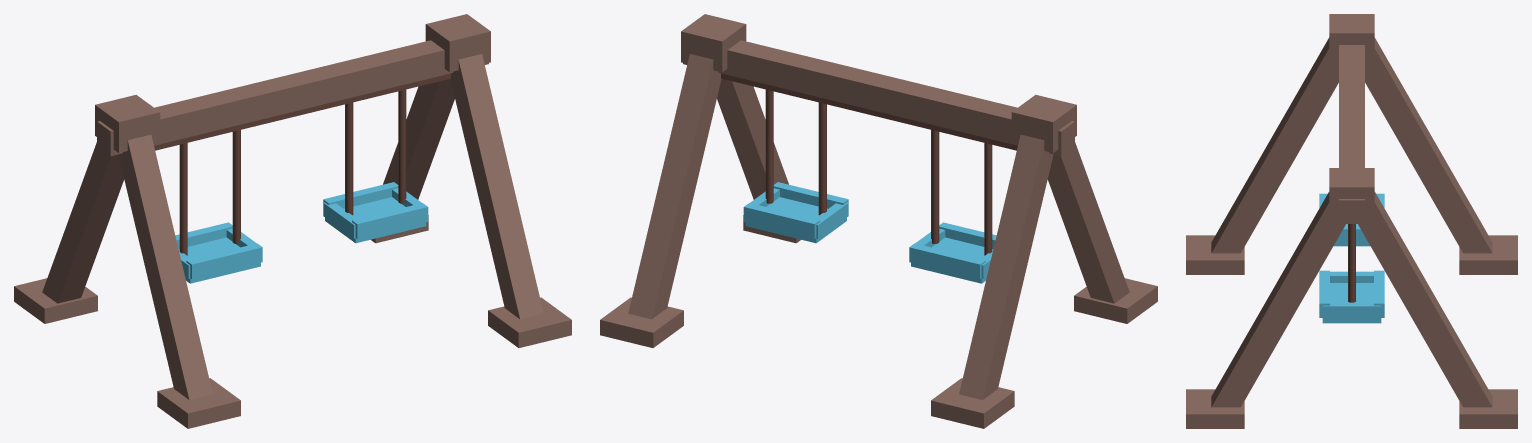
The model's file is swing_set.glb.
3 views of the same model, side by side, from view 1: azimuth 30°, elevation 25°; view 2: azimuth 150°, elevation 25°; view 3: azimuth 270°, elevation 25° (orthographic). The views are drawn at different scales.
Visible parts, largest first — view 1: swing_set; view 2: swing_set; view 3: swing_set.
Boxes of the visible parts, left/top/right/bottom form: swing_set: left=14, top=14, right=571, bottom=428; swing_set: left=600, top=14, right=1157, bottom=428; swing_set: left=1186, top=14, right=1517, bottom=428.
Bounding box in the file's own units: 65 × 41.55 × 51.
